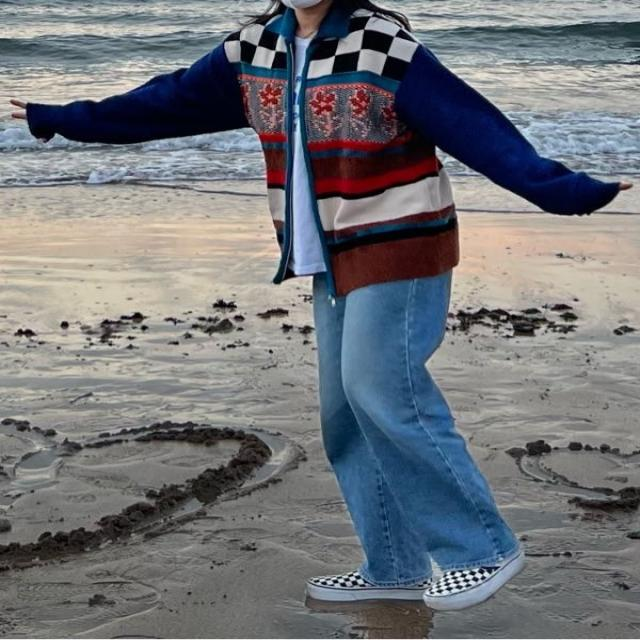cardigan: (26, 6, 622, 292)
denimpants: (308, 256, 523, 586)
